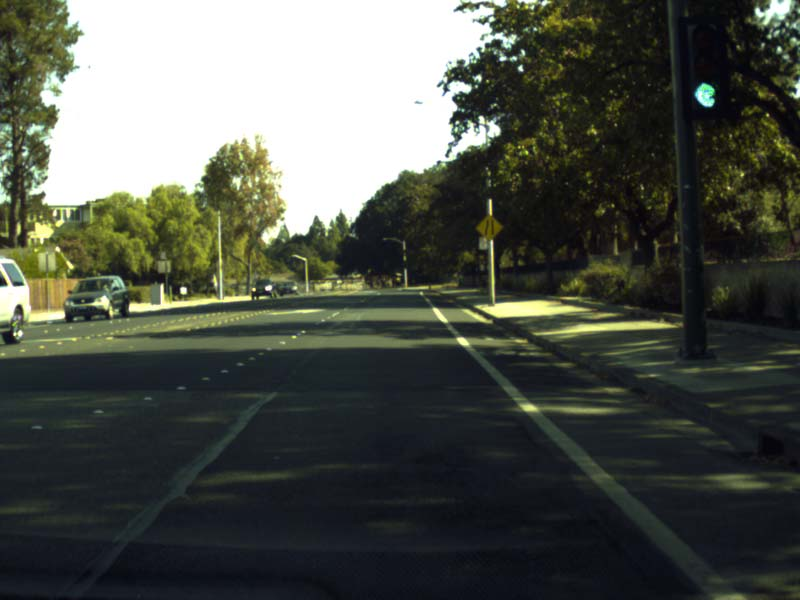Green: (684, 20, 728, 119)
